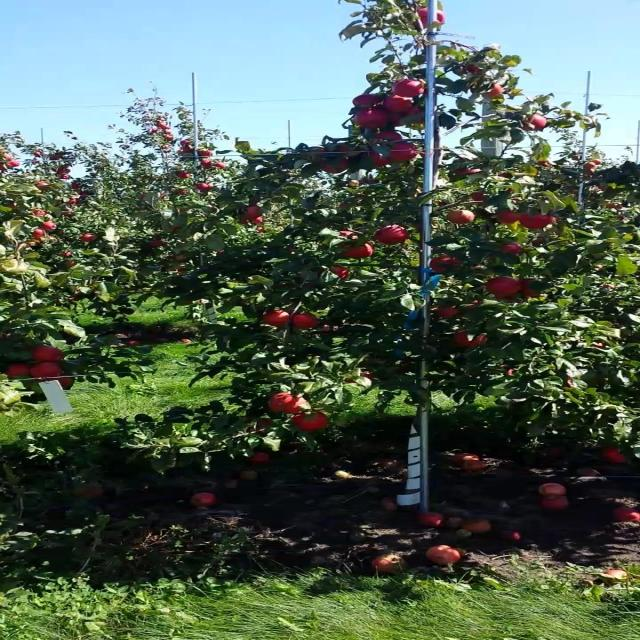apple: (355, 108, 389, 131), (269, 396, 308, 416), (390, 108, 427, 128), (298, 412, 332, 432), (390, 144, 420, 164), (376, 228, 411, 245), (340, 244, 377, 260), (419, 8, 448, 28), (454, 332, 489, 348), (433, 256, 462, 275), (397, 80, 427, 97), (383, 96, 414, 112), (262, 312, 292, 328), (490, 280, 519, 296), (35, 364, 64, 380), (525, 216, 553, 231), (518, 280, 540, 298), (35, 348, 64, 361), (291, 316, 320, 329), (525, 116, 548, 132), (6, 364, 30, 379), (369, 152, 391, 168), (604, 448, 626, 464), (447, 212, 476, 224), (355, 96, 384, 108), (348, 372, 377, 384), (319, 268, 348, 280), (326, 160, 348, 175), (483, 84, 505, 99), (376, 132, 405, 142), (497, 212, 521, 224), (532, 216, 558, 227), (461, 64, 484, 76), (454, 168, 484, 177), (440, 308, 462, 320), (326, 268, 348, 280), (504, 244, 524, 256), (319, 324, 340, 334), (468, 192, 487, 202), (340, 144, 357, 155), (468, 300, 484, 311), (255, 420, 272, 430), (63, 376, 75, 389), (248, 208, 263, 218), (340, 232, 357, 240), (504, 368, 517, 377), (255, 216, 263, 224), (568, 380, 576, 387)
